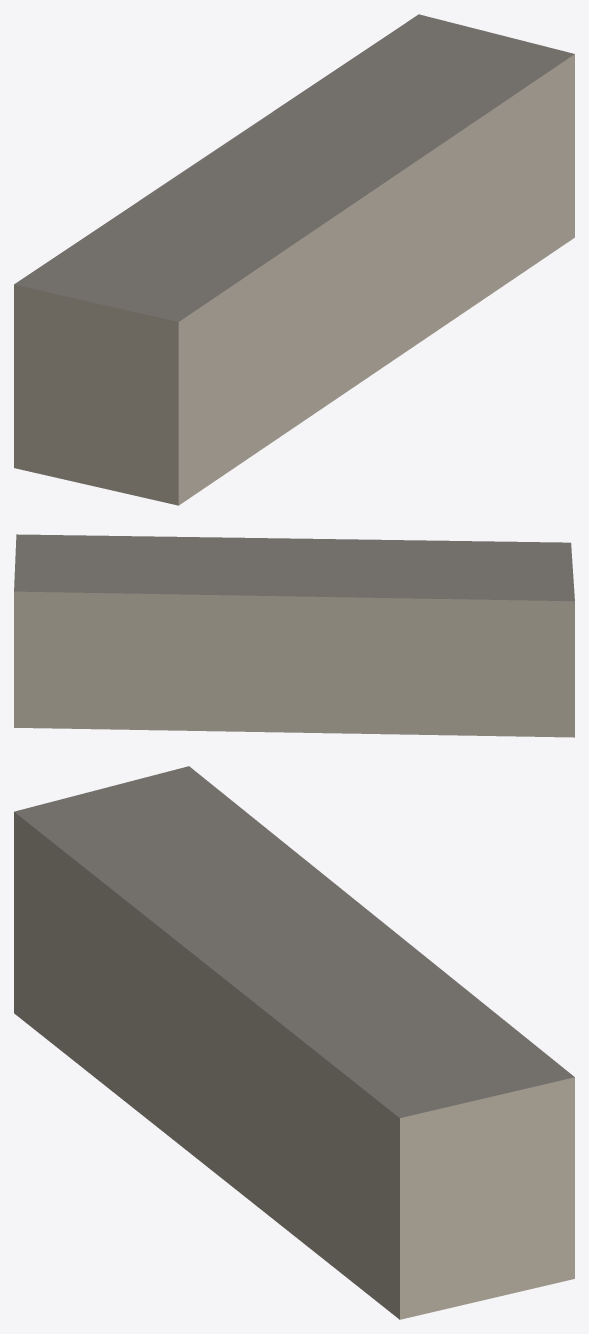
3 views of the same model, one above another, from view 1: azimuth 30°, elevation 25°; view 2: azimuth 150°, elevation 25°; view 3: azimuth 270°, elevation 25° (orthographic). The views are drawn at different scales.
Parts seen in each view (by area): view 1: HP-w505633402; view 2: HP-w505633402; view 3: HP-w505633402.
Boxes of the visible parts, x1,y1,x2,y2 form: HP-w505633402: (14,14,574,505); HP-w505633402: (14,534,574,737); HP-w505633402: (14,766,574,1319).
Bounding box in the file's own units: 44.94 × 12 × 30.26.
